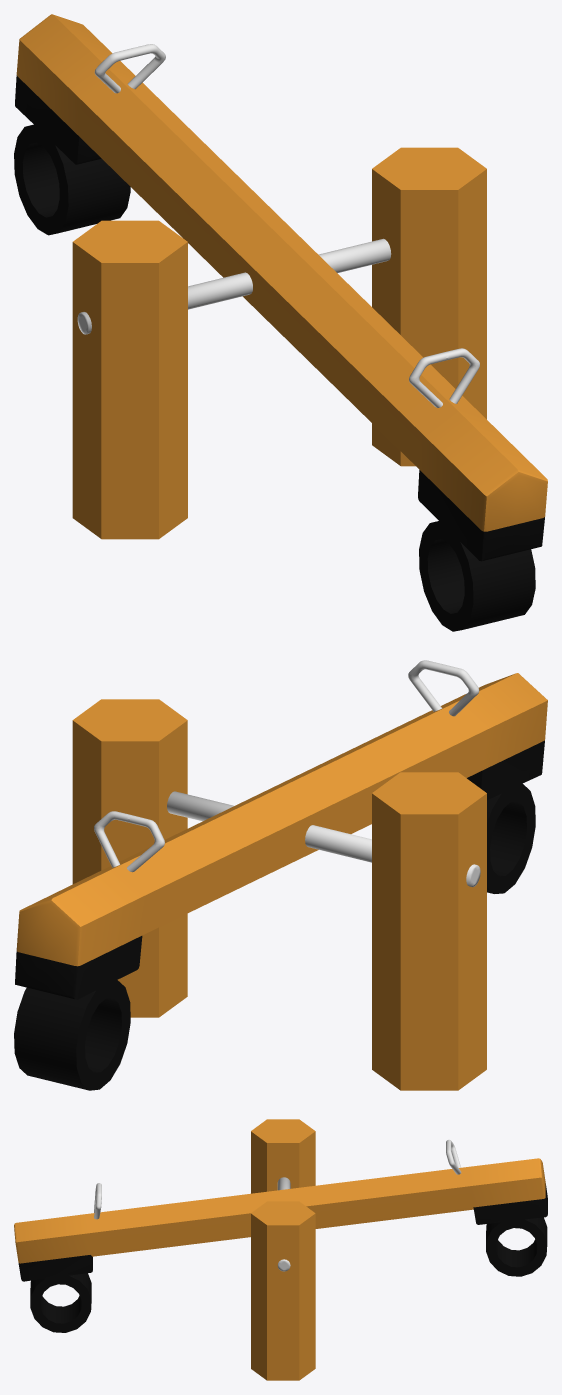
The model's file is seesaw.fbx.
The picture shows the model from 3 angles, top to bottom: view 1: azimuth 30°, elevation 25°; view 2: azimuth 150°, elevation 25°; view 3: azimuth 270°, elevation 25°; orthographic projection. The views are drawn at different scales.
Parts seen in each view (by area): view 1: Cylinder.001; view 2: Cylinder.001; view 3: Cylinder.001.
Boxes of the visible parts, x1,y1,x2,y2 form: Cylinder.001: (14,14,547,631); Cylinder.001: (14,660,547,1090); Cylinder.001: (14,1119,547,1380).
Size of the model in its own units: 784 by 623 by 1648.
